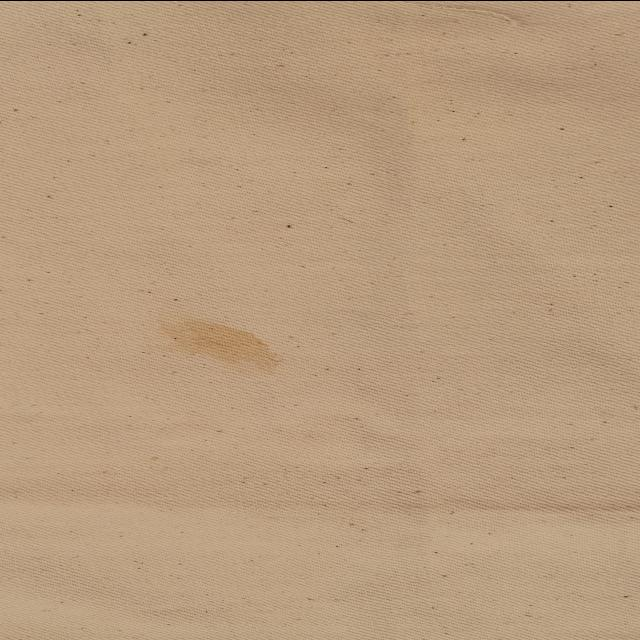taaaches: (139, 302, 295, 376)
